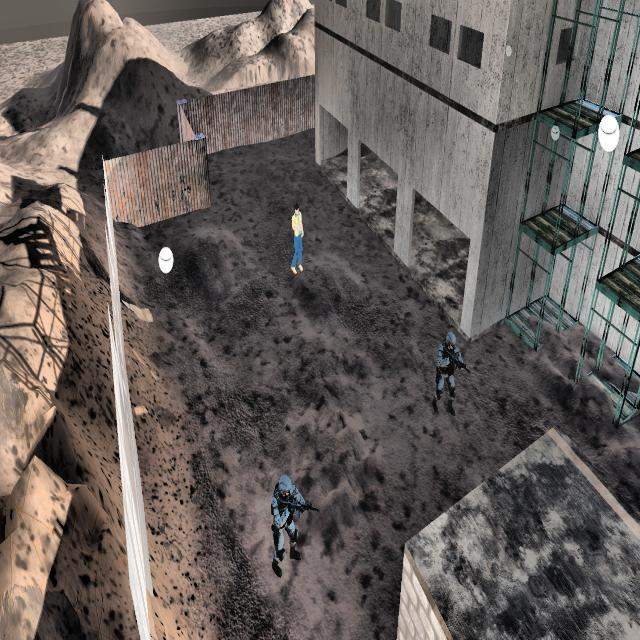bad: (257, 456, 317, 581), (425, 317, 468, 416)
good: (285, 192, 308, 280)
